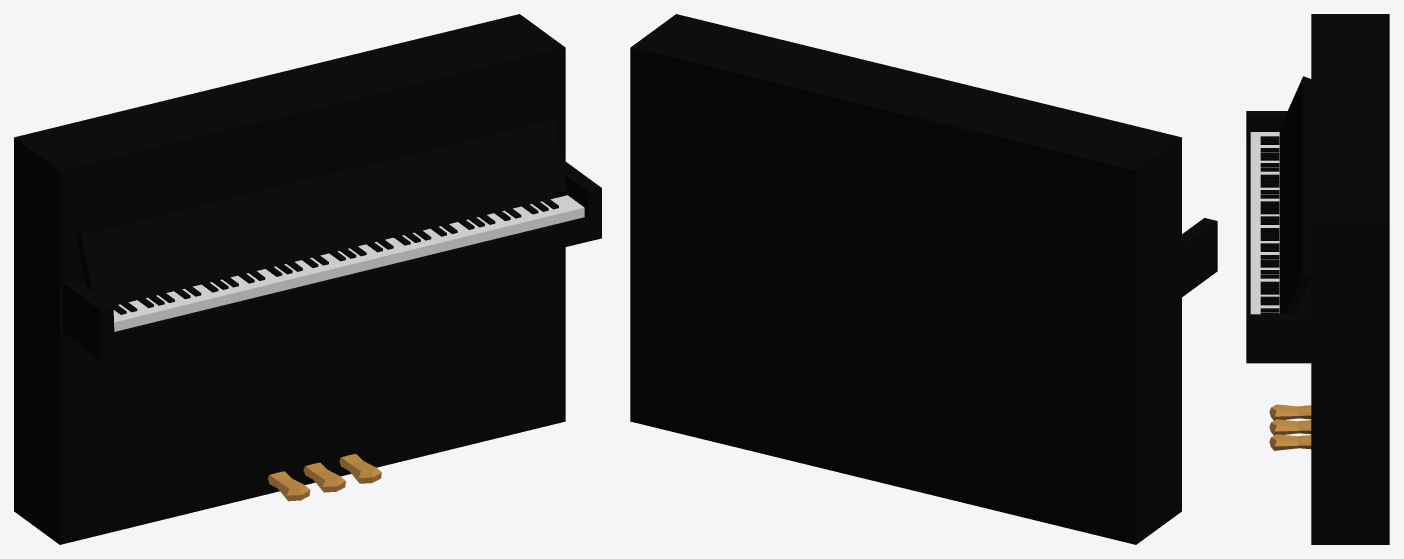
Rendered from piano.fbx.
3 views of the same model, side by side, from view 1: azimuth 30°, elevation 25°; view 2: azimuth 150°, elevation 25°; view 3: azimuth 270°, elevation 25° (orthographic). The views are drawn at different scales.
Parts seen in each view (by area): view 1: base, kansi, koskettimet, koskettimet mustat, polkimet; view 2: base; view 3: base, kansi, koskettimet, koskettimet mustat, polkimet.
Part boxes in pixels (x1,y1,x2,y2): base: (14,14,601,544); kansi: (76,119,567,302); koskettimet: (113,195,584,331); koskettimet mustat: (110,198,558,314); polkimet: (267,453,381,501); base: (630,14,1217,544); base: (1246,14,1389,544); kansi: (1280,76,1311,314); koskettimet: (1250,132,1279,314); koskettimet mustat: (1260,136,1279,314); polkimet: (1269,404,1311,450).
Size of the model in its own units: 565 by 400 by 162.
